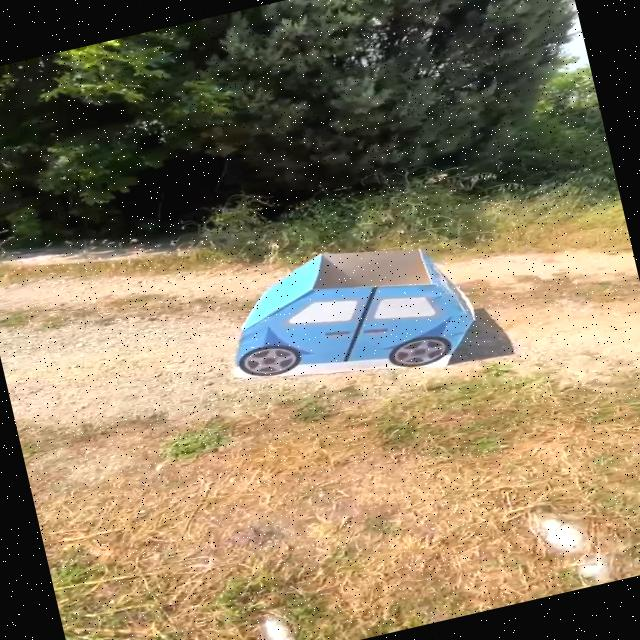blue_car: (205, 210, 505, 428)
